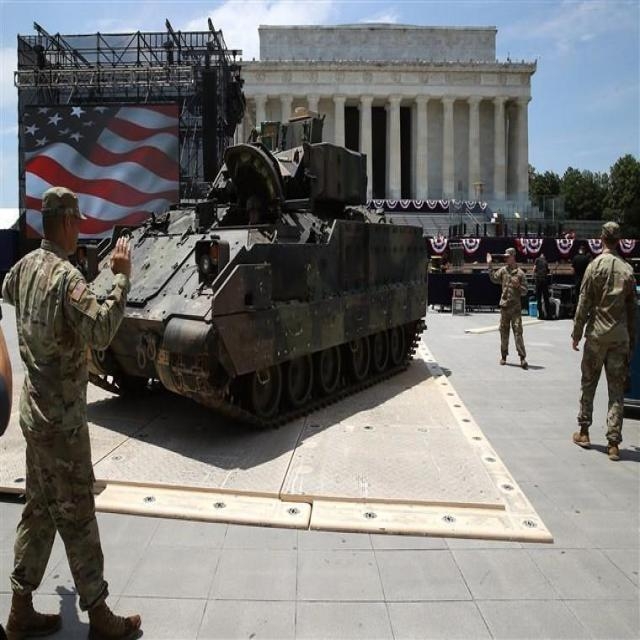Tanks: (89, 139, 431, 396)
